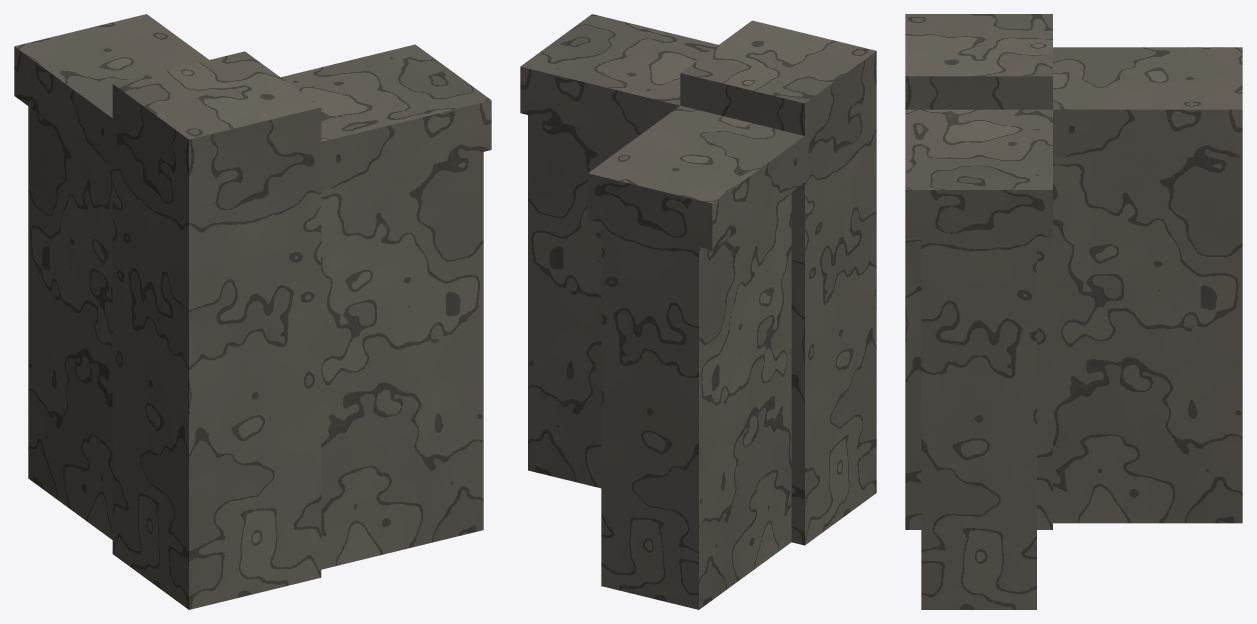
File: parapet_outer_corner.glb
The picture shows the model from 3 angles, left to right: view 1: azimuth 30°, elevation 25°; view 2: azimuth 150°, elevation 25°; view 3: azimuth 270°, elevation 25°; orthographic projection. The views are drawn at different scales.
Parts seen in each view (by area): view 1: parapet_outer_corner; view 2: parapet_outer_corner; view 3: parapet_outer_corner.
Part boxes in pixels (box(x1,y1,x2,y2)): parapet_outer_corner: box(14, 14, 491, 609); parapet_outer_corner: box(520, 14, 876, 609); parapet_outer_corner: box(905, 14, 1242, 609).
Bounding box in the file's own units: 0.64 × 0.95 × 0.64.
1 material, 1 textured.
